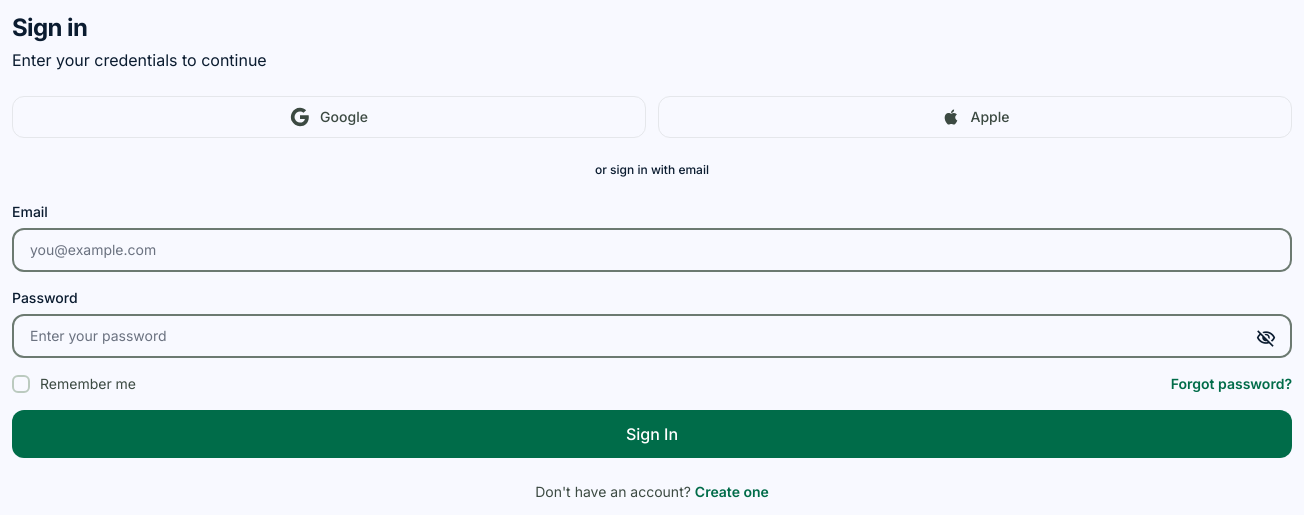
Scenario: LoginPage › shows loading spinner on button while logging in
Type "test@example.com" into the field labelled "Email" at (652, 250), box [12,228,1292,272]
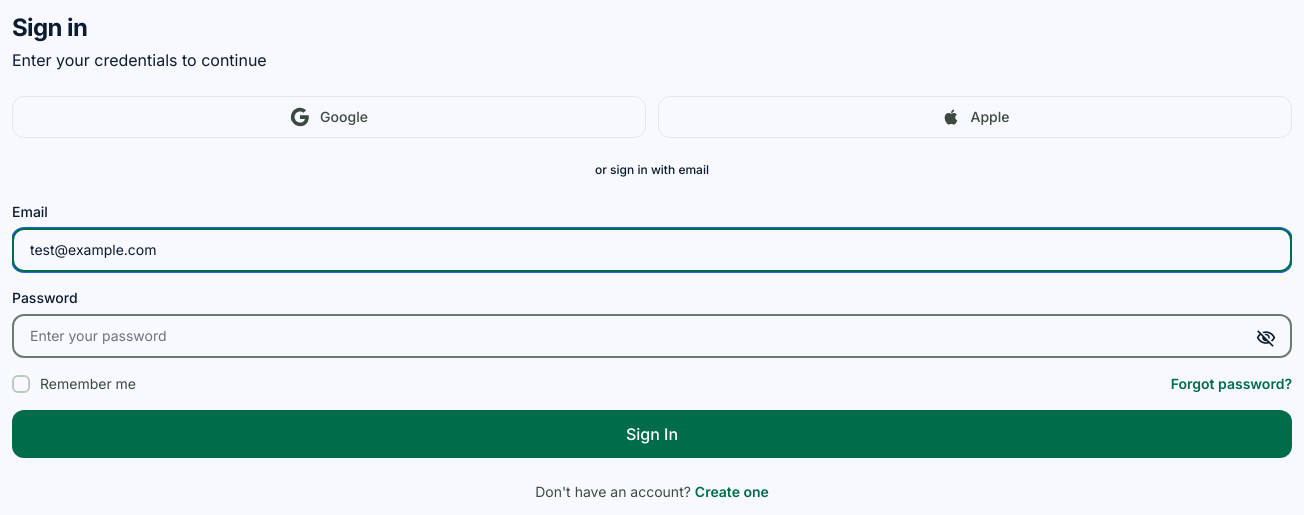
Type "password123" into the password field labelled "Password" at (652, 336), box [12,314,1292,358]
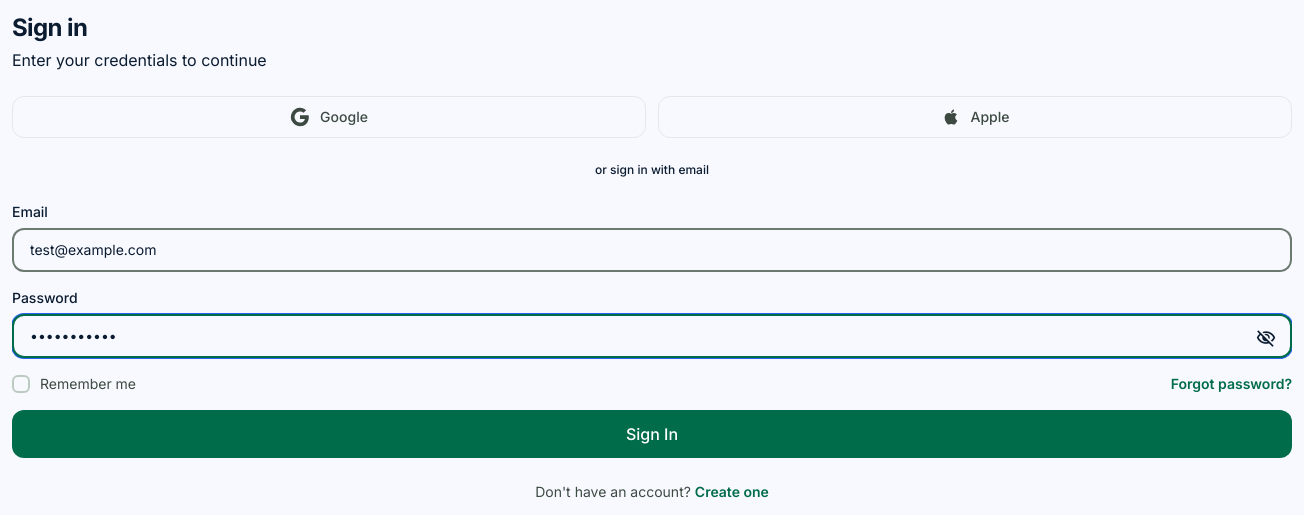
Click the button "Sign In" at (652, 434), box [12,410,1292,458]
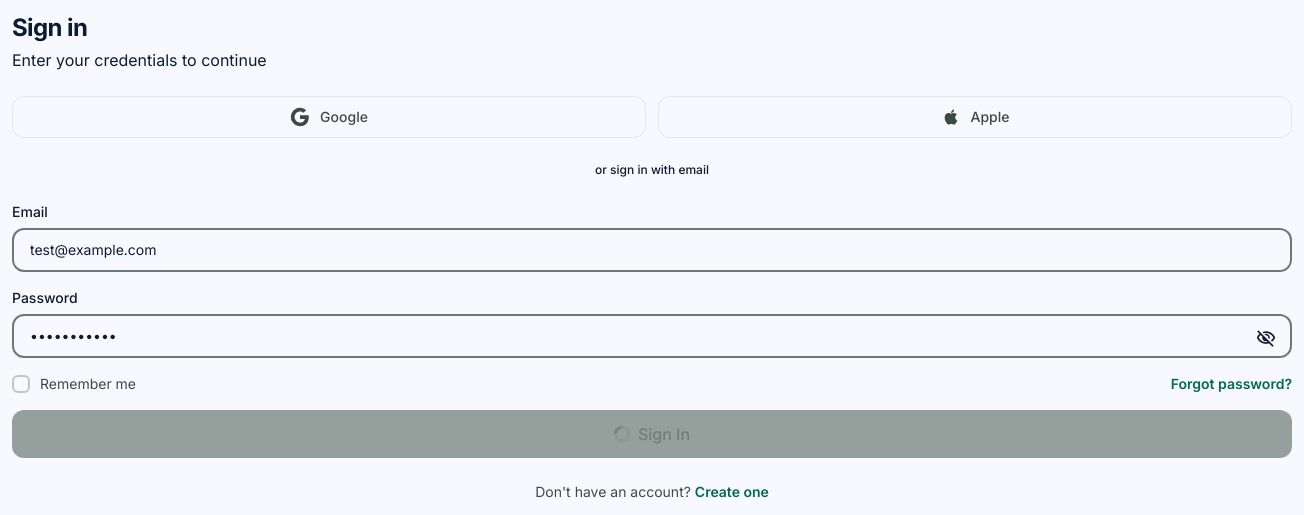
Result: the icon with class "animate-spin" is shown at [614,426,630,442]
